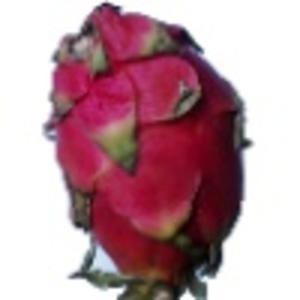pitaia: (44, 1, 252, 300)
